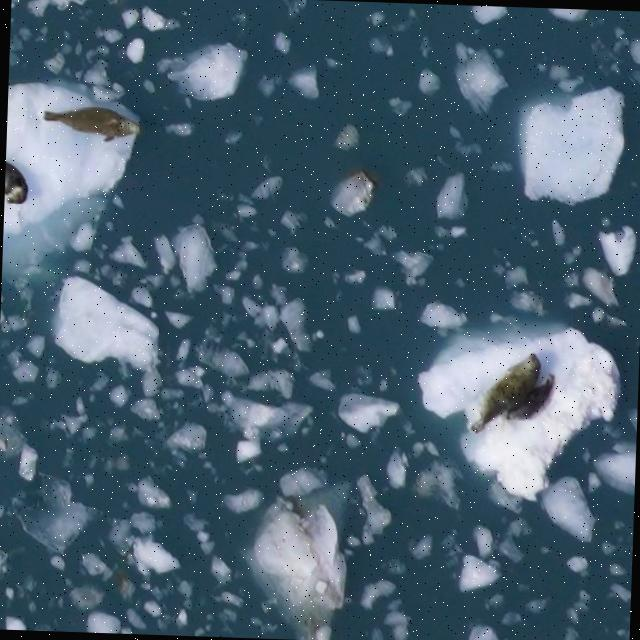seal: (472, 353, 543, 434), (43, 107, 139, 144), (505, 372, 554, 419), (5, 162, 28, 203)
